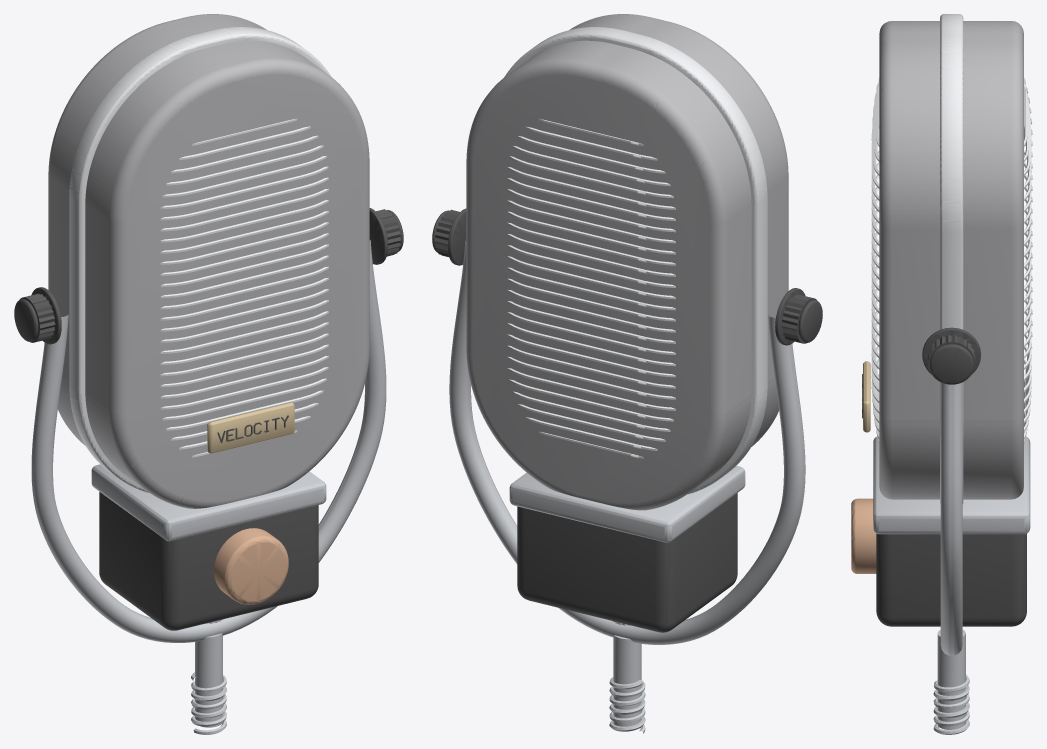
File: ribbon-mic.glb
The picture shows the model from 3 angles, left to right: view 1: azimuth 30°, elevation 25°; view 2: azimuth 150°, elevation 25°; view 3: azimuth 270°, elevation 25°; orthographic projection.
Visible parts, largest first — view 1: grille, transformer, yoke; view 2: grille, transformer, yoke; view 3: grille, transformer, yoke.
Boxes of the visible parts, <box> form: grille: <box>48,14,369,508</box>; transformer: <box>91,464,326,630</box>; yoke: <box>14,208,403,734</box>; grille: <box>466,14,788,510</box>; transformer: <box>509,465,745,632</box>; yoke: <box>432,208,822,733</box>; grille: <box>862,14,1032,503</box>; transformer: <box>851,436,1030,626</box>; yoke: <box>922,327,981,734</box>.
Size of the model in its own units: 1.37 by 2.46 by 0.5781.
